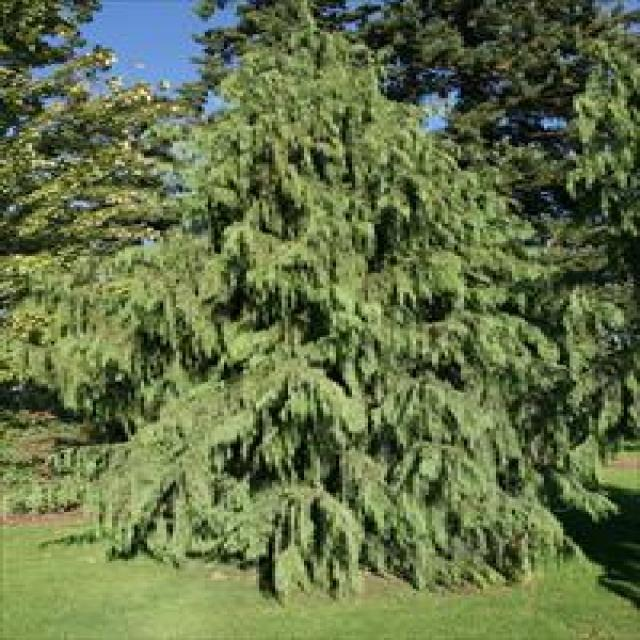Cupressus nootkatensis: (109, 1, 548, 579)
